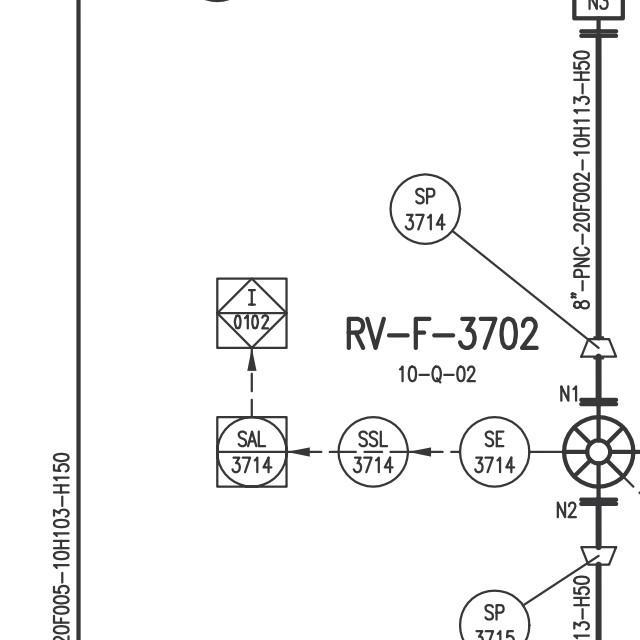RV1: (557, 410, 638, 490)
SP: (577, 539, 618, 571), (576, 332, 619, 361)
